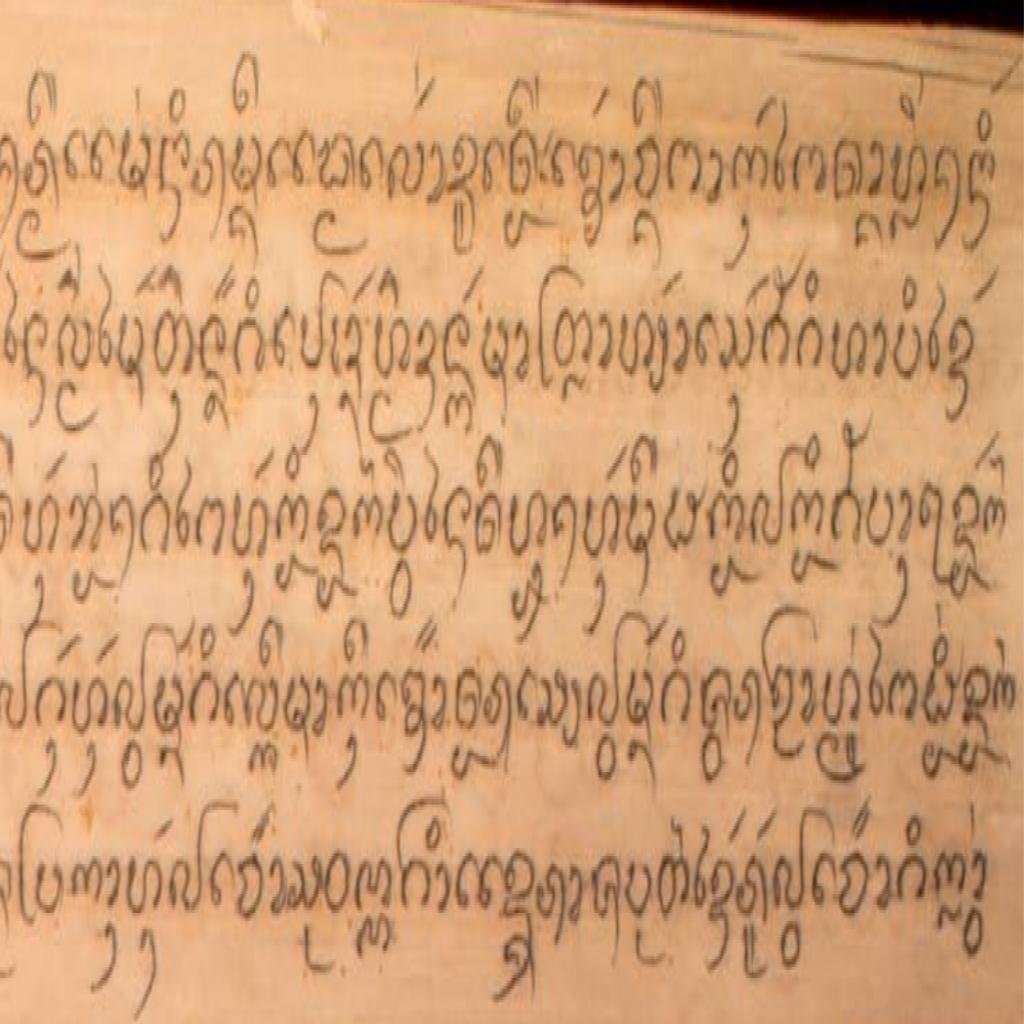LN019: (553, 301, 596, 375)
LN038: (718, 308, 758, 378)
